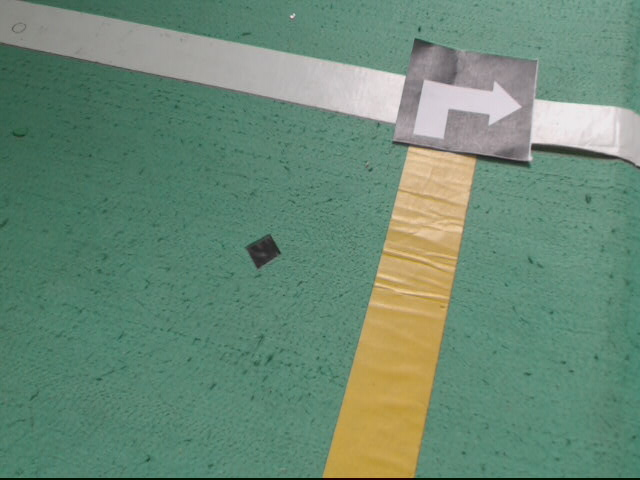right: (390, 38, 543, 164)
